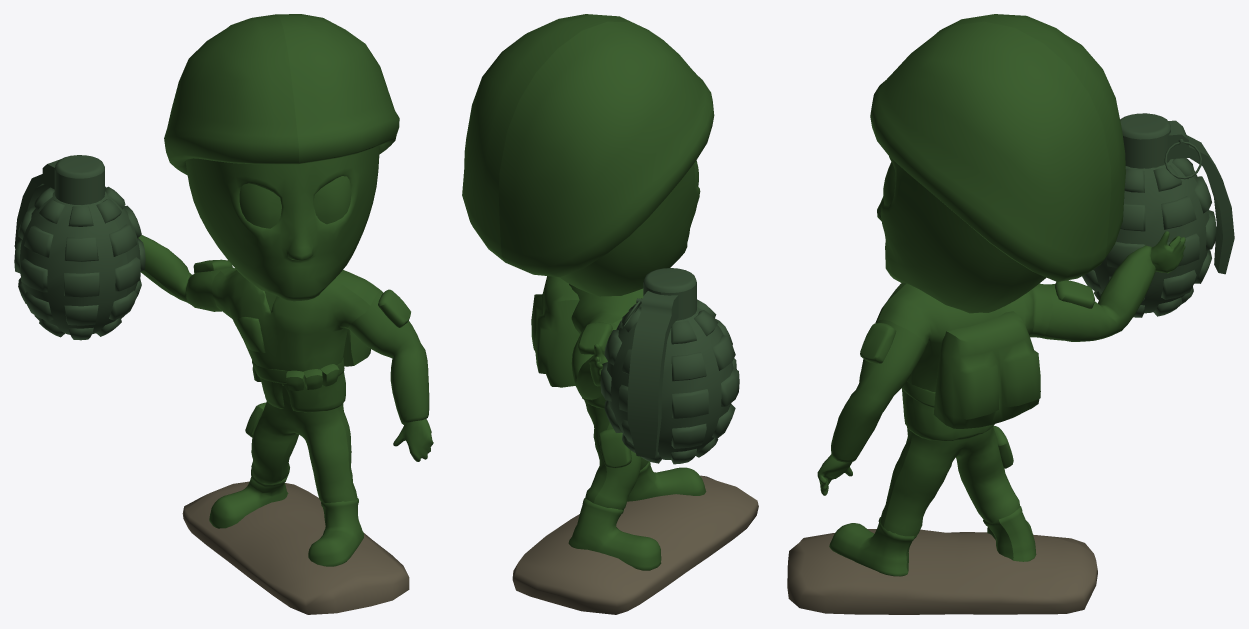
Rendered from Soldier_Pose_Grenade.fbx.
3 views of the same model, side by side, from view 1: azimuth 30°, elevation 25°; view 2: azimuth 150°, elevation 25°; view 3: azimuth 270°, elevation 25° (orthographic). The views are drawn at different scales.
Parts seen in each view (by area): view 1: Soldier_Pose_Grenade; view 2: Soldier_Pose_Grenade; view 3: Soldier_Pose_Grenade.
Part boxes in pixels (left/top/right/bottom): Soldier_Pose_Grenade: left=14, top=14, right=433, bottom=614; Soldier_Pose_Grenade: left=462, top=14, right=758, bottom=614; Soldier_Pose_Grenade: left=787, top=14, right=1234, bottom=614.
Size of the model in its own units: 39.54 by 63.97 by 45.59.
